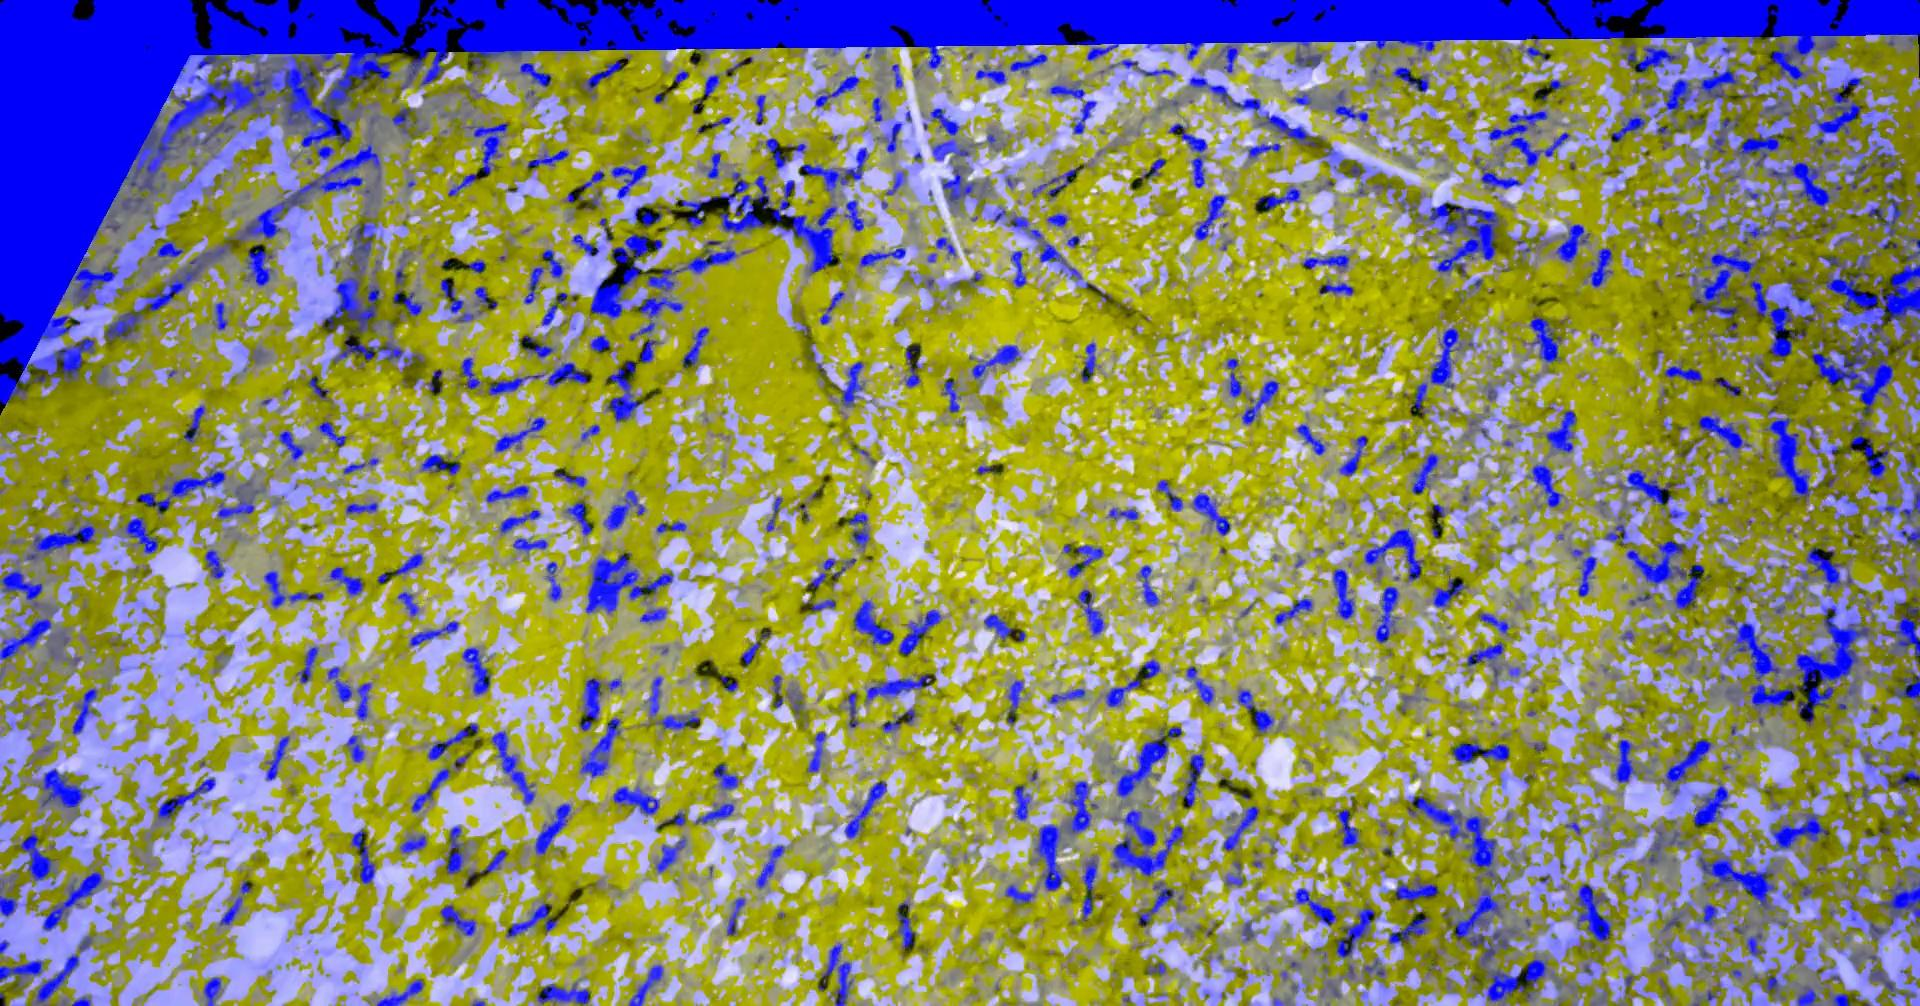ant: (135, 469, 223, 514), (42, 871, 102, 930), (491, 730, 535, 804), (1768, 161, 1831, 211), (797, 147, 869, 191), (1364, 528, 1422, 580), (1662, 739, 1710, 794), (1189, 76, 1260, 111), (1168, 123, 1206, 187), (157, 777, 215, 819), (844, 781, 886, 838), (1618, 470, 1680, 508), (25, 525, 94, 559), (1849, 419, 1888, 478), (604, 361, 643, 420), (580, 718, 618, 777), (264, 570, 323, 607), (817, 942, 851, 1005), (36, 954, 77, 1005), (466, 123, 507, 174), (1771, 813, 1827, 850), (1258, 112, 1316, 147), (0, 619, 51, 658), (1576, 884, 1610, 941), (1335, 907, 1374, 956), (898, 608, 940, 654), (427, 723, 477, 760), (535, 803, 570, 854), (1035, 824, 1062, 890), (853, 600, 893, 644), (1879, 880, 1919, 925), (1430, 328, 1459, 387), (1890, 605, 1919, 664), (505, 903, 557, 936), (494, 417, 543, 451), (1698, 415, 1749, 448), (1031, 165, 1083, 197), (1137, 882, 1173, 926), (866, 674, 930, 700), (41, 768, 83, 807), (411, 768, 450, 810), (1241, 380, 1277, 423), (1192, 492, 1229, 535), (1222, 807, 1258, 850), (1806, 546, 1841, 591), (1691, 782, 1727, 827), (971, 345, 1018, 379), (604, 490, 644, 528), (1039, 243, 1079, 279), (0, 569, 41, 606), (19, 833, 51, 880), (1622, 46, 1677, 72), (1237, 690, 1272, 732), (1736, 132, 1779, 166), (1529, 316, 1561, 362), (1867, 197, 1903, 236), (1295, 888, 1335, 925), (1194, 194, 1225, 239), (461, 647, 490, 694), (815, 75, 858, 107), (629, 964, 662, 1005), (1529, 464, 1561, 506), (350, 828, 375, 883), (1375, 586, 1398, 641), (612, 786, 658, 814), (611, 164, 648, 198), (941, 165, 974, 203), (1123, 809, 1156, 847), (1697, 67, 1737, 98), (1451, 741, 1509, 762), (1545, 410, 1575, 452), (0, 960, 42, 989), (1662, 77, 1697, 113), (1556, 224, 1589, 260), (1067, 544, 1103, 577), (585, 60, 623, 91), (756, 845, 783, 888), (350, 222, 375, 272), (409, 621, 458, 645), (376, 979, 423, 1005), (1067, 781, 1090, 833), (537, 982, 589, 1005), (1338, 434, 1368, 475), (124, 517, 157, 553), (566, 170, 603, 202), (488, 373, 543, 394), (1078, 589, 1103, 634), (1105, 674, 1140, 706), (71, 688, 97, 733), (579, 678, 601, 730), (1182, 754, 1204, 807), (682, 326, 709, 367), (439, 904, 475, 935), (1388, 916, 1429, 942), (1411, 453, 1437, 493), (1333, 90, 1368, 121), (841, 361, 863, 406), (265, 735, 290, 779), (1611, 739, 1636, 782), (1610, 116, 1648, 142), (1186, 666, 1213, 704), (655, 840, 684, 873), (1255, 188, 1299, 210), (246, 245, 270, 285), (499, 509, 538, 533), (1712, 117, 1738, 152), (1081, 857, 1096, 920), (1333, 569, 1352, 619), (1274, 598, 1310, 624), (639, 296, 682, 318), (1394, 879, 1437, 901), (194, 121, 235, 144), (546, 362, 587, 385), (329, 567, 362, 594), (1432, 578, 1465, 606), (1465, 641, 1503, 666), (1336, 809, 1360, 847), (1393, 66, 1429, 91), (858, 246, 905, 265), (897, 901, 916, 948), (541, 292, 568, 325), (1481, 166, 1521, 188), (1589, 248, 1611, 286), (806, 558, 834, 588), (446, 826, 463, 873), (439, 278, 463, 312), (566, 500, 590, 535), (1297, 424, 1324, 453), (983, 614, 1013, 640), (328, 666, 350, 701), (1157, 479, 1182, 511), (819, 291, 843, 324), (183, 405, 204, 442), (930, 108, 959, 135), (278, 431, 303, 461), (695, 803, 733, 823), (883, 708, 916, 730), (1139, 565, 1158, 605), (523, 267, 543, 304), (422, 453, 458, 474), (392, 290, 422, 315), (1893, 671, 1919, 700), (1869, 967, 1895, 996), (519, 62, 550, 86), (1663, 365, 1702, 384), (527, 149, 568, 166), (1898, 486, 1919, 522), (217, 498, 253, 518), (808, 730, 825, 771), (1073, 100, 1095, 133), (485, 485, 528, 502), (1006, 680, 1022, 723), (317, 420, 345, 446), (764, 138, 789, 168), (1010, 53, 1046, 72), (932, 140, 969, 159), (848, 513, 869, 547), (298, 647, 317, 682), (726, 897, 744, 935), (1578, 555, 1595, 596), (447, 173, 476, 196), (392, 553, 422, 575), (1302, 254, 1349, 268), (479, 848, 505, 873), (218, 897, 241, 925), (552, 467, 585, 486), (660, 713, 698, 729), (1079, 342, 1095, 382), (712, 763, 737, 789), (460, 357, 479, 389), (1477, 614, 1509, 633), (634, 205, 662, 226), (541, 249, 563, 277), (1225, 358, 1241, 398), (975, 64, 1004, 84), (905, 345, 919, 387), (844, 199, 863, 230), (571, 234, 598, 255), (697, 116, 731, 132), (1013, 784, 1029, 821), (204, 549, 223, 578), (1410, 382, 1426, 415), (1049, 84, 1084, 99), (1010, 250, 1025, 286), (546, 561, 560, 600), (356, 682, 370, 720), (474, 286, 497, 309), (943, 377, 959, 412), (766, 497, 781, 531), (655, 812, 684, 829), (391, 107, 411, 132), (342, 459, 378, 473), (1787, 278, 1806, 305), (1713, 376, 1740, 395), (1319, 279, 1352, 295), (1049, 688, 1084, 702), (397, 591, 418, 615), (1895, 768, 1919, 789), (1742, 224, 1768, 243), (1648, 831, 1663, 862), (0, 887, 17, 916), (649, 676, 662, 713), (1604, 523, 1625, 545), (886, 122, 902, 152), (1004, 885, 1032, 902), (203, 977, 220, 1005), (740, 641, 759, 666), (629, 323, 654, 340), (345, 735, 363, 761), (400, 835, 425, 852), (1248, 144, 1280, 158), (1848, 163, 1874, 179), (1876, 145, 1896, 166), (307, 376, 328, 398), (512, 539, 546, 551), (1137, 659, 1159, 678), (1746, 934, 1765, 956), (157, 240, 183, 257), (1898, 527, 1919, 547), (1143, 158, 1164, 177), (1796, 986, 1817, 1005), (885, 171, 903, 194), (1225, 862, 1243, 885), (524, 343, 552, 357), (1295, 53, 1321, 69), (1698, 903, 1717, 923), (640, 339, 657, 362), (639, 608, 665, 622), (345, 502, 377, 513), (935, 238, 955, 255), (847, 692, 857, 727), (215, 302, 227, 329), (703, 74, 717, 98), (772, 674, 782, 708), (1364, 959, 1384, 976), (707, 152, 720, 178), (1525, 46, 1548, 60), (1109, 508, 1137, 520), (657, 521, 684, 532), (1763, 974, 1778, 995), (121, 197, 143, 210), (590, 335, 610, 351), (810, 600, 836, 611), (720, 674, 737, 691), (1492, 931, 1509, 948), (1139, 69, 1175, 76), (582, 424, 599, 439), (453, 751, 469, 768), (1869, 921, 1884, 939), (1145, 962, 1164, 976), (599, 217, 611, 240), (463, 259, 484, 272), (756, 95, 764, 123), (1830, 993, 1851, 1005), (1048, 213, 1067, 226), (891, 64, 902, 86), (1663, 916, 1680, 930), (1010, 216, 1027, 229), (1291, 93, 1310, 104), (872, 97, 881, 121), (1349, 164, 1365, 177), (1242, 921, 1253, 939), (1688, 114, 1703, 127), (79, 936, 91, 951), (395, 267, 405, 285), (1549, 79, 1564, 90), (977, 464, 996, 473), (71, 996, 90, 1005), (674, 71, 688, 83)
